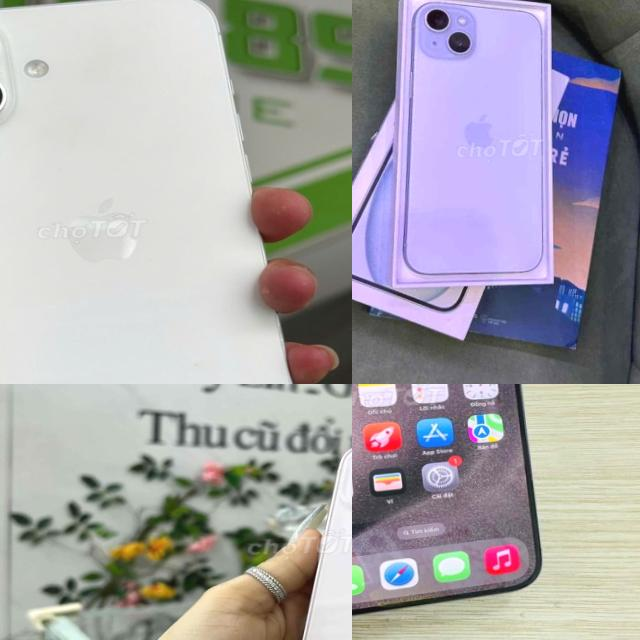gen_15: (352, 384, 575, 628), (378, 0, 556, 304)
gen_16: (0, 0, 290, 384)
